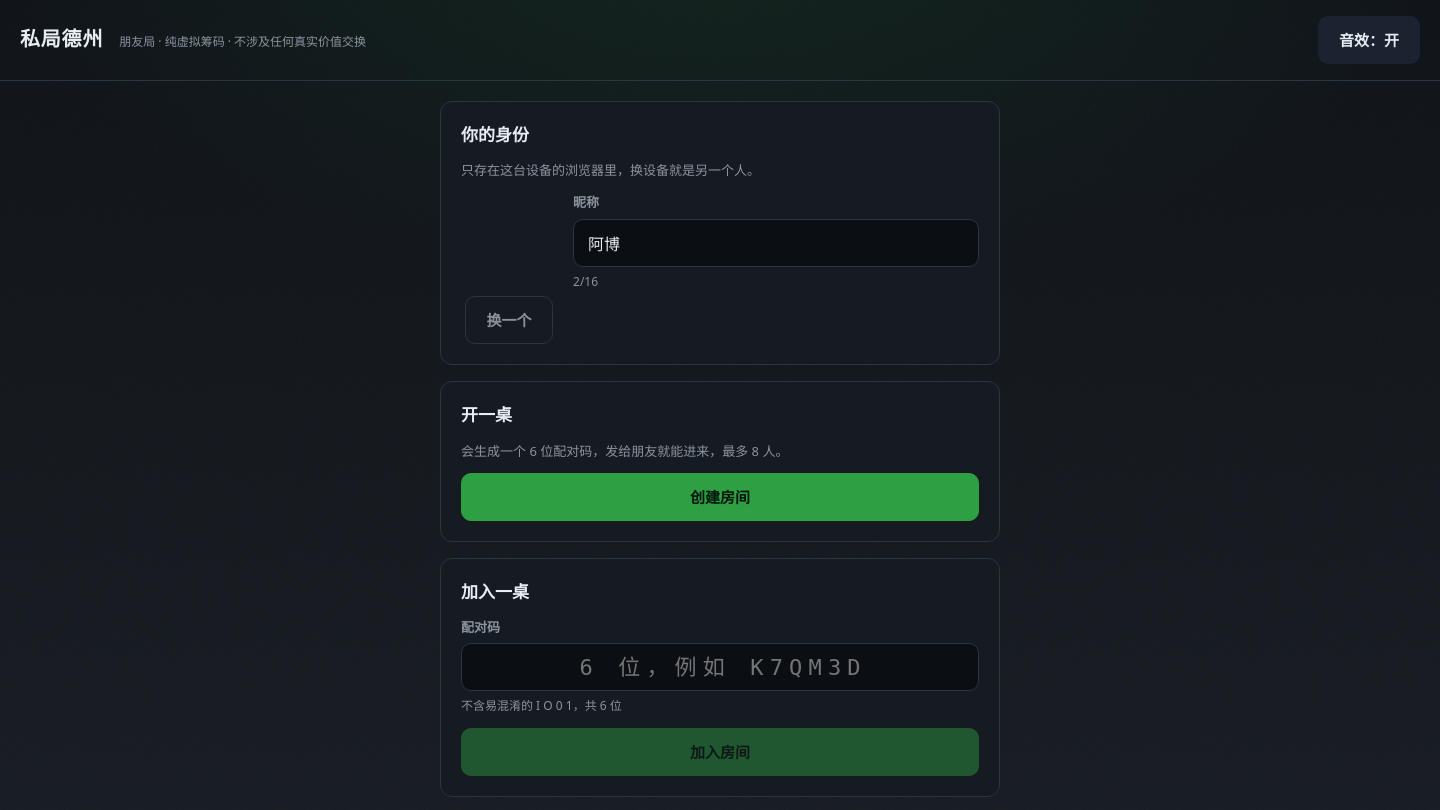
Test: 大厅 · 创建房间 › 点「知道了」可以关掉横幅
Click the button "创建房间" at point(720, 497), box [461, 473, 979, 521]
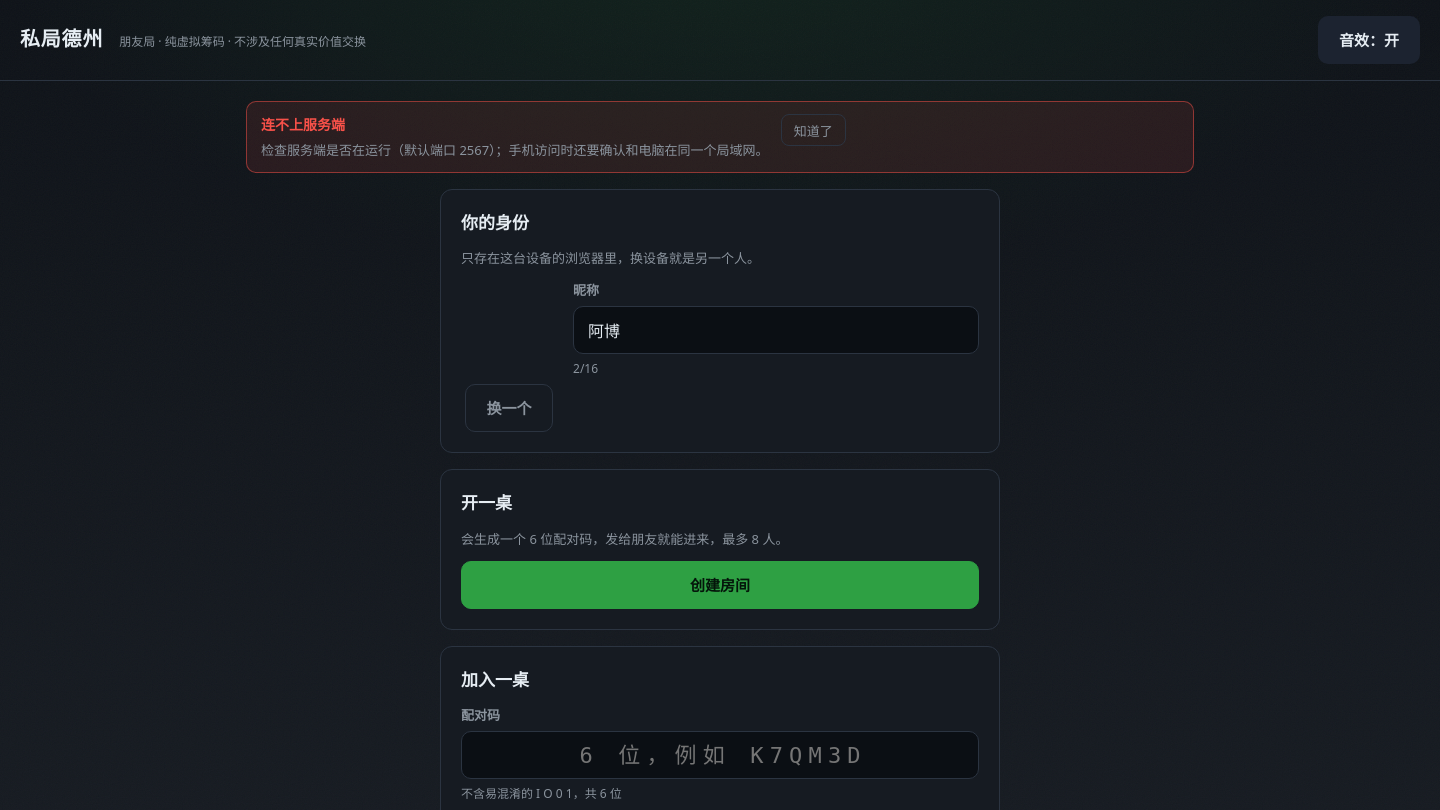
Check: the message "连不上服务端 检查服务端是否在运行（默认端口 2567）；手机访问时还要确认和电脑在同一个局域网。 知道了" is shown, box [246, 101, 1194, 173]
Click the button "知道了" at point(813, 130), box [781, 114, 846, 146]
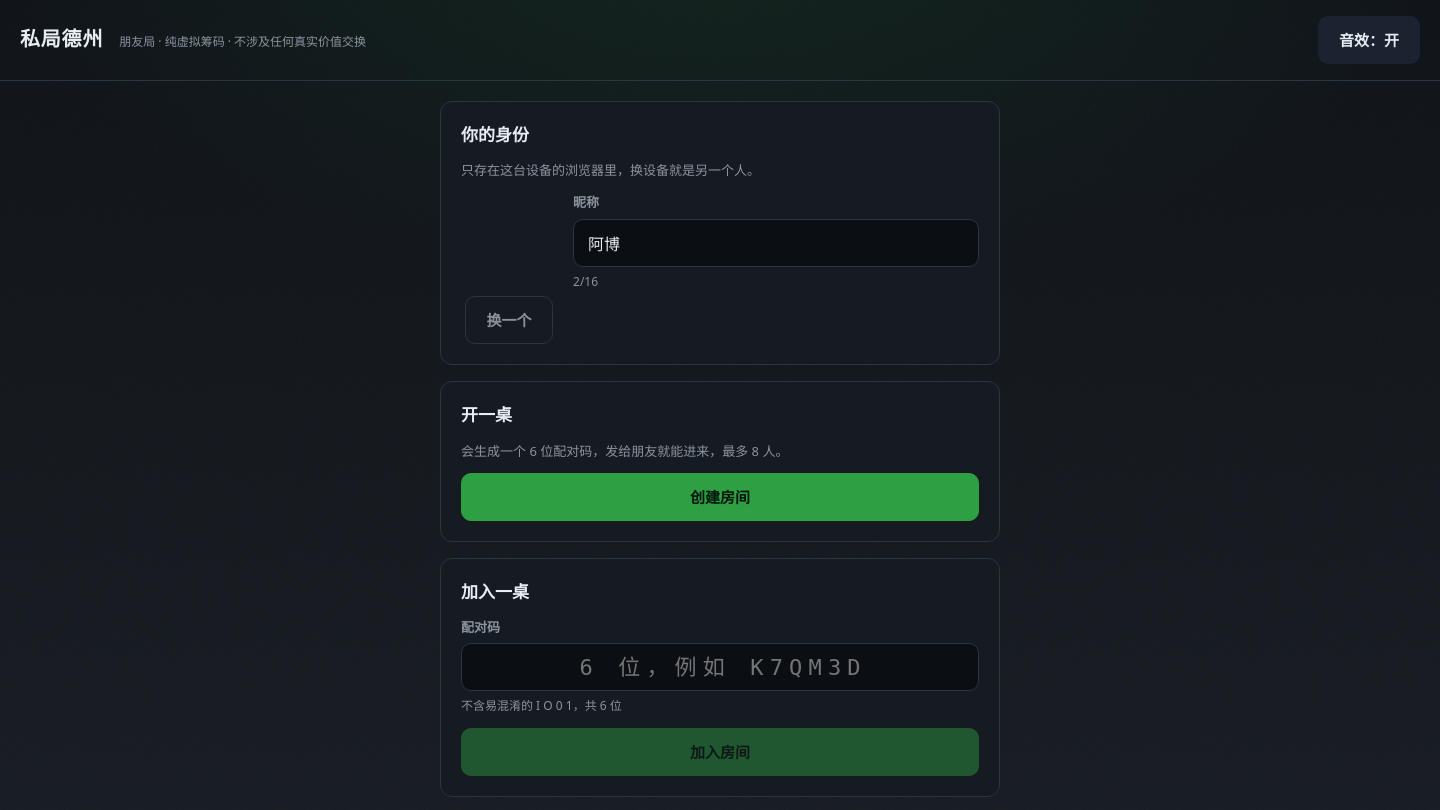
Check: the message "连不上服务端 检查服务端是否在运行（默认端口 2567）；手机访问时还要确认和电脑在同一个局域网。 知道了" is gone
